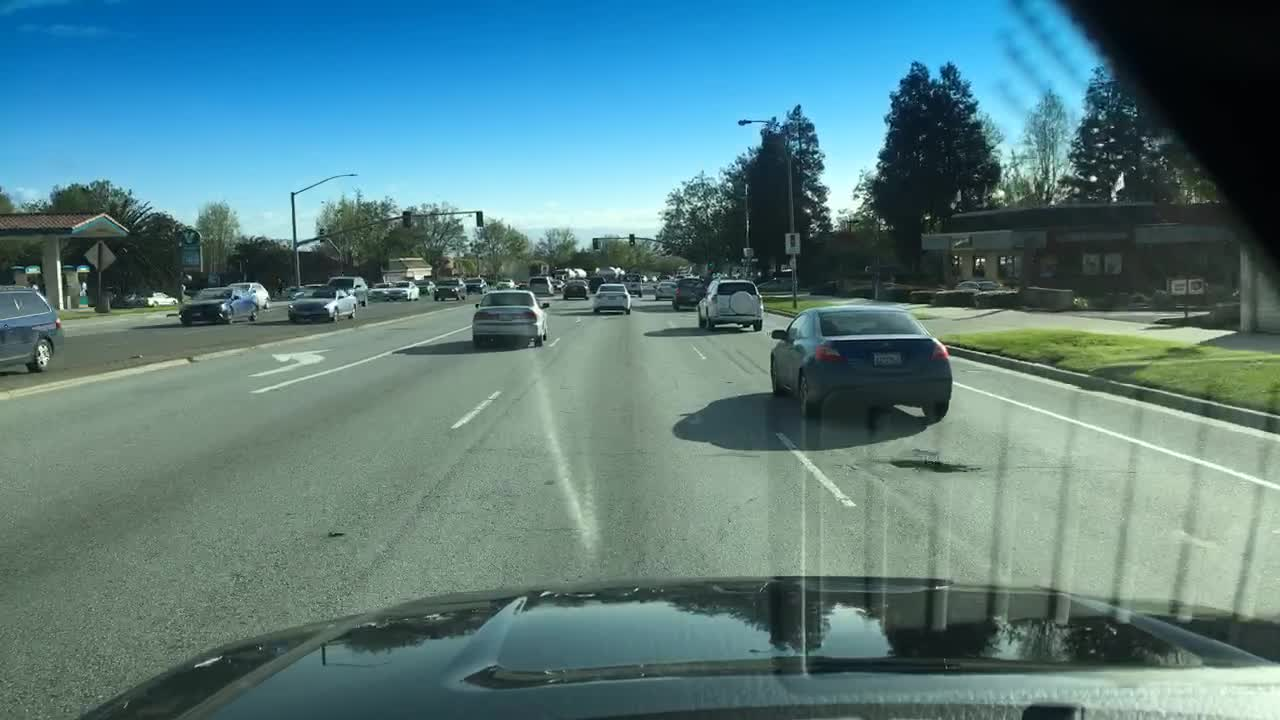car: (766, 305, 958, 424), (1, 283, 63, 374), (469, 289, 551, 345), (696, 278, 766, 331), (177, 284, 262, 324), (285, 284, 359, 325), (591, 281, 633, 313), (328, 275, 366, 306), (671, 275, 706, 306), (233, 283, 270, 309), (434, 275, 466, 303), (388, 278, 422, 300), (561, 279, 591, 299), (530, 273, 556, 293), (623, 272, 646, 293), (366, 279, 390, 299), (651, 279, 673, 298), (466, 275, 487, 293), (417, 277, 434, 291), (588, 273, 601, 291), (496, 277, 515, 289), (555, 280, 566, 290), (517, 278, 524, 288)
person: (272, 273, 283, 298)
traffic light: (400, 212, 411, 227), (592, 233, 600, 250), (476, 212, 484, 227), (628, 233, 636, 247)
traffic sign: (82, 238, 116, 274)
